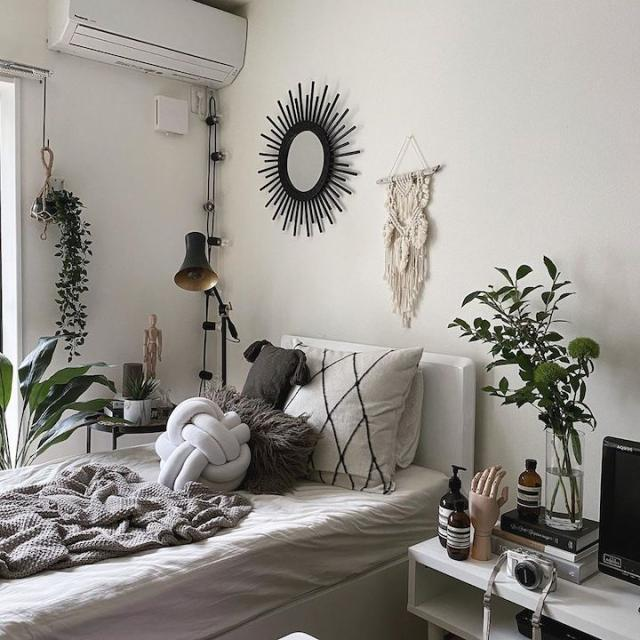modern shelf: (418, 477, 640, 640)
